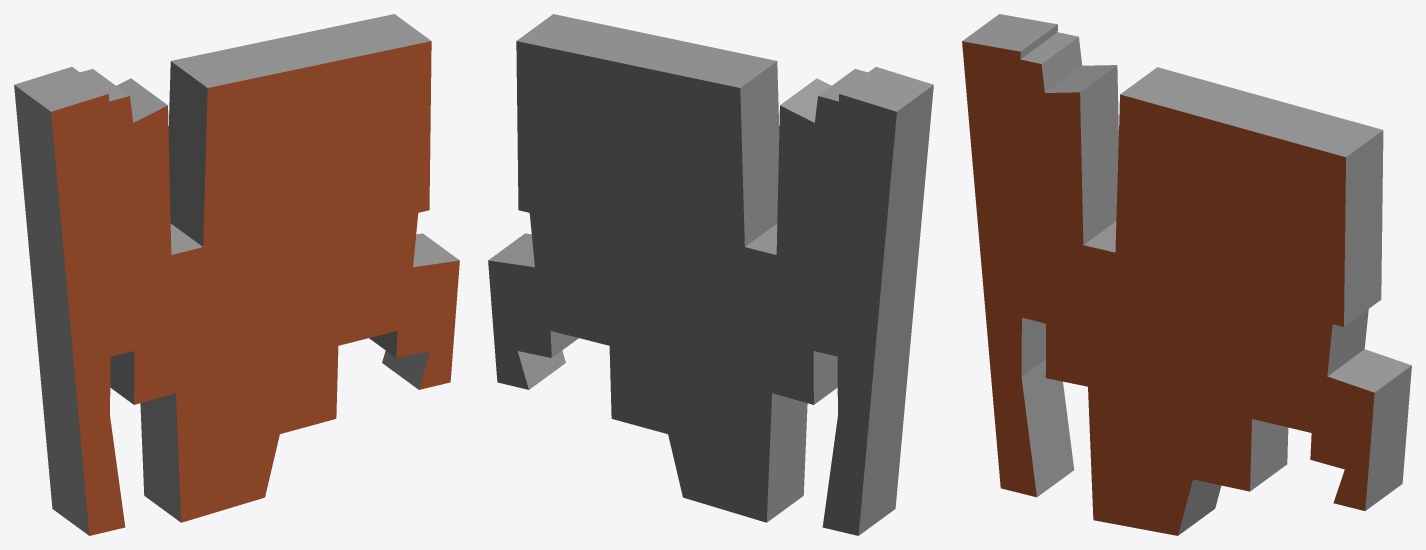
Rendered from construction_6969_assumed_A_Casa_h6m.obj.
The picture shows the model from 3 angles, left to right: view 1: azimuth 30°, elevation 25°; view 2: azimuth 150°, elevation 25°; view 3: azimuth 330°, elevation 25°; orthographic projection.
Parts seen in each view (by area): view 1: construction_6969_assumed_A_Casa; view 2: construction_6969_assumed_A_Casa; view 3: construction_6969_assumed_A_Casa.
Boxes of the visible parts, x1,y1,x2,y2 form: construction_6969_assumed_A_Casa: [14, 14, 459, 535]; construction_6969_assumed_A_Casa: [488, 14, 933, 535]; construction_6969_assumed_A_Casa: [962, 14, 1411, 535].
Size of the model in its own units: 38.28 by 39.96 by 6.
